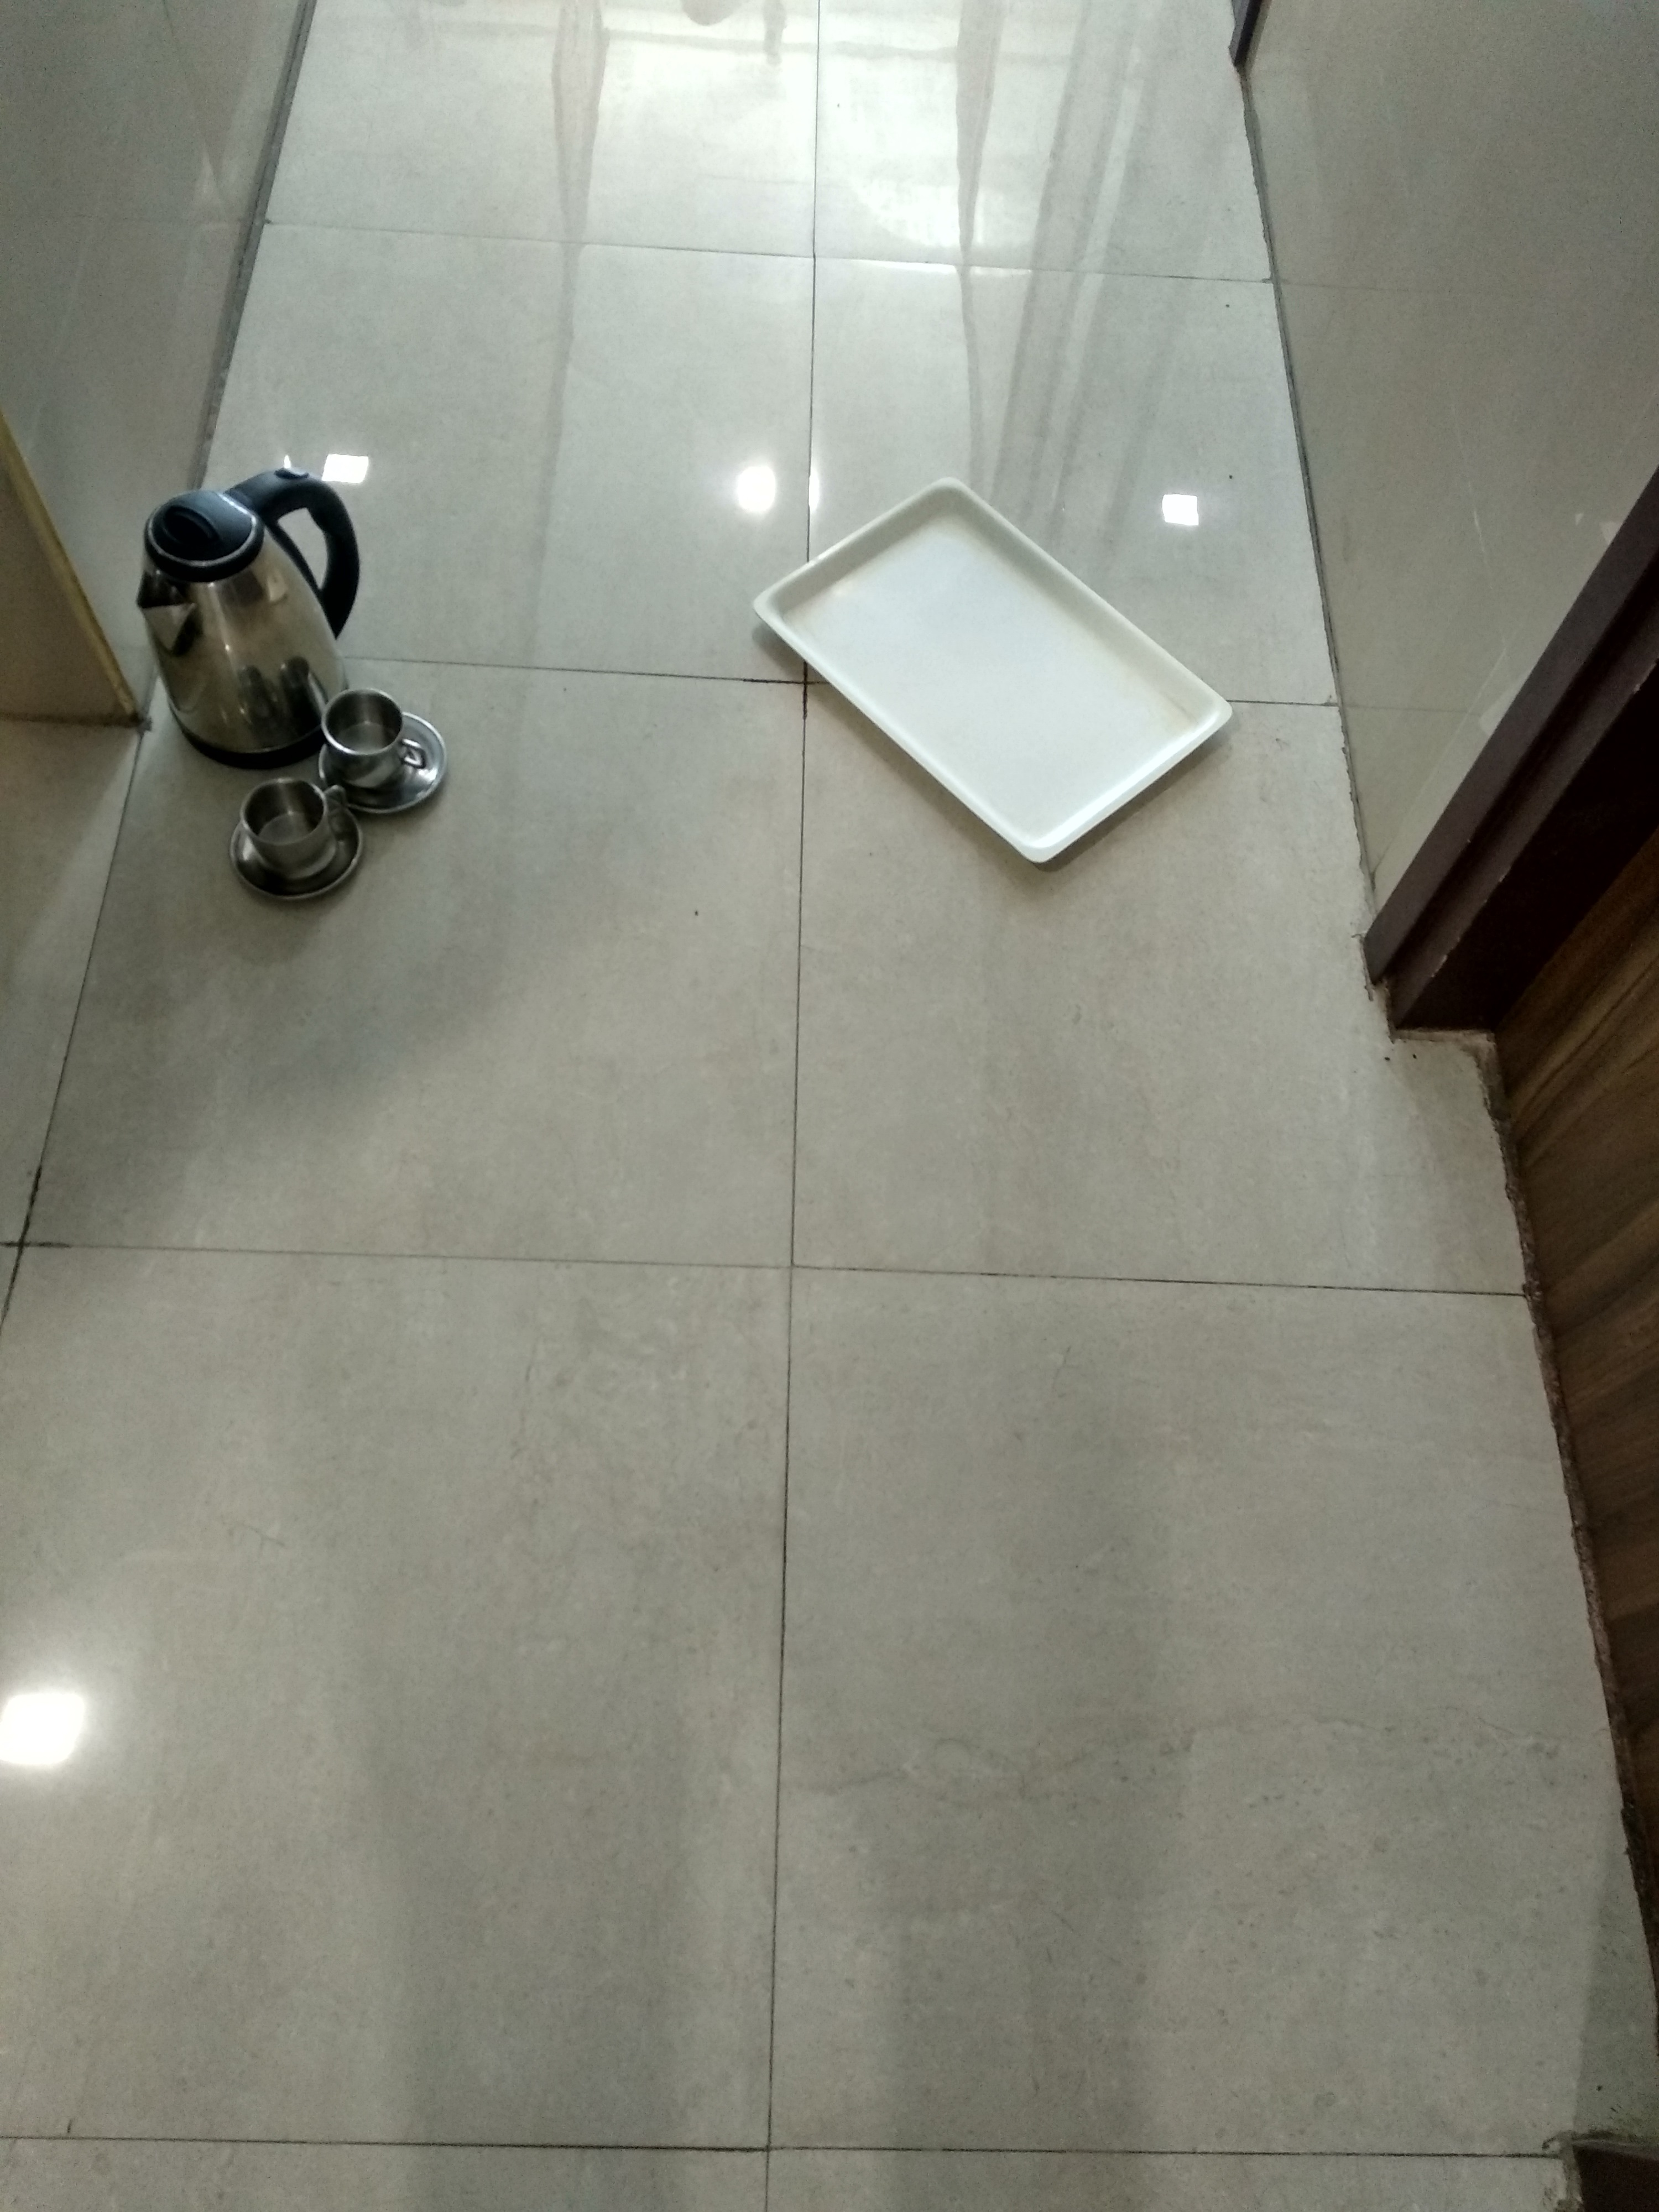CUP: (237, 770, 350, 878), (321, 688, 432, 786)
JUG: (139, 482, 347, 688)
